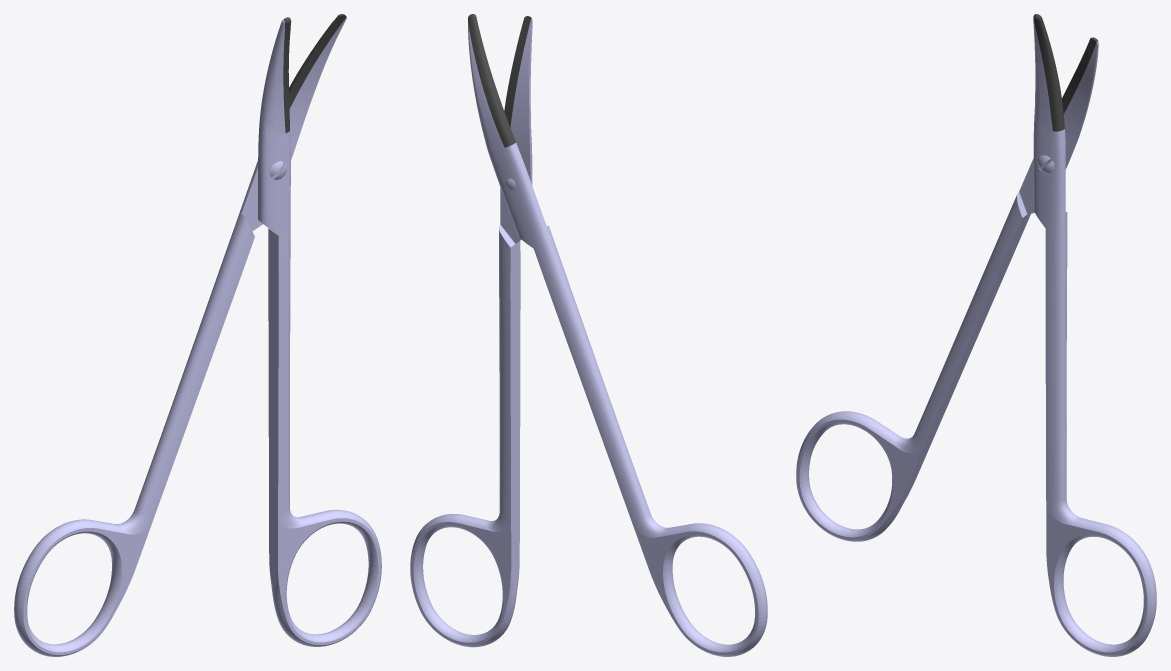
Rendered from Schere.obj.
3 views of the same model, side by side, from view 1: azimuth 30°, elevation 25°; view 2: azimuth 150°, elevation 25°; view 3: azimuth 330°, elevation 25° (orthographic). The views are drawn at different scales.
Parts seen in each view (by area): view 1: Körper2, Körper1, Körper3, Körper4; view 2: Körper1, Körper2, Körper3, Körper4; view 3: Körper2, Körper1, Körper4, Körper3.
Part boxes in pixels (box(x1,y1,x2,y2)): Körper2: box(258, 19, 381, 646); Körper1: box(14, 17, 346, 656); Körper3: box(289, 14, 346, 108); Körper4: box(283, 17, 291, 132); Körper1: box(468, 20, 767, 656); Körper2: box(410, 18, 532, 647); Körper3: box(468, 14, 515, 147); Körper4: box(504, 16, 531, 127); Körper2: box(1033, 16, 1156, 656); Körper1: box(796, 41, 1098, 541); Körper4: box(1033, 14, 1064, 131); Körper3: box(1062, 37, 1097, 113).
Bounding box in the file's own units: 0.0849 × 0.1443 × 0.00827.
